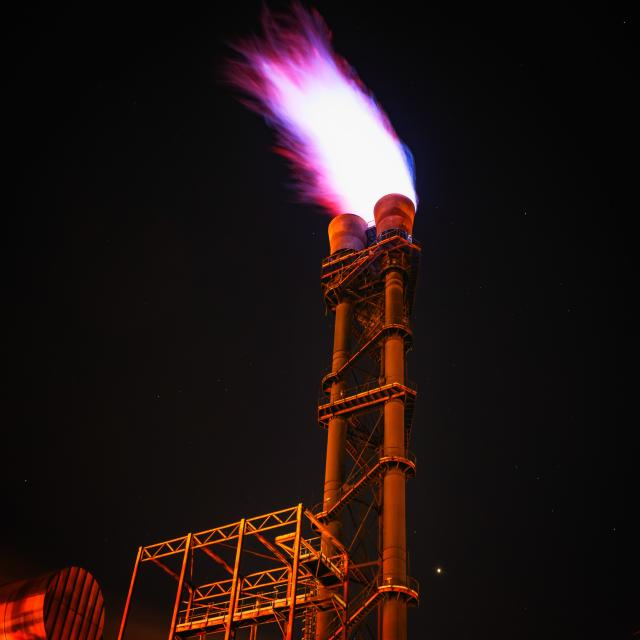fire: (240, 7, 476, 249)
